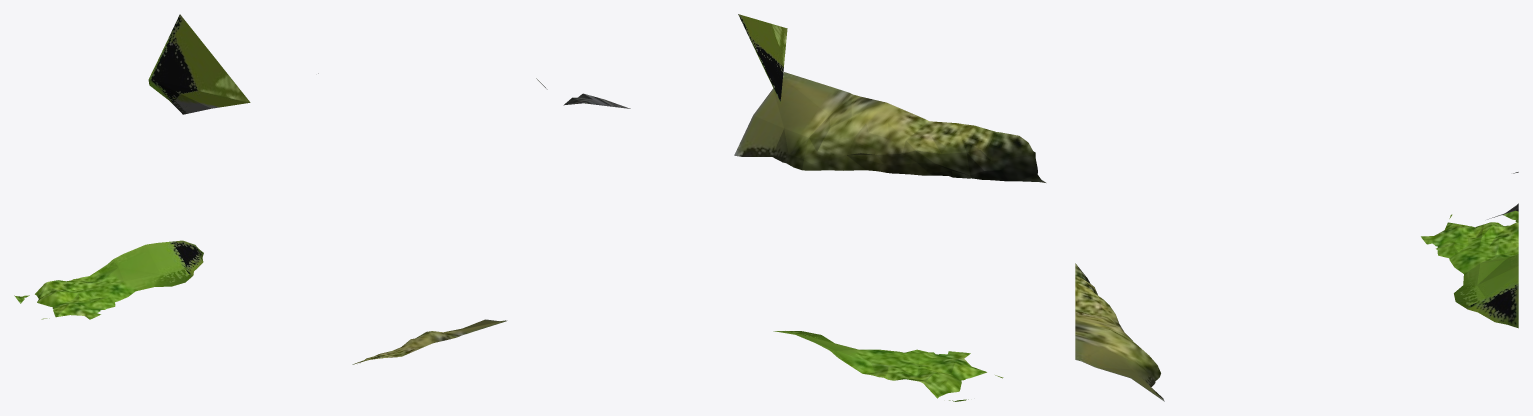
The picture shows the model from 3 angles, left to right: view 1: azimuth 30°, elevation 25°; view 2: azimuth 150°, elevation 25°; view 3: azimuth 270°, elevation 25°; orthographic projection. The views are drawn at different scales.
Bounding box in the file's own units: 3.35 × 2.5 × 3.35.
1 material, 1 textured.
